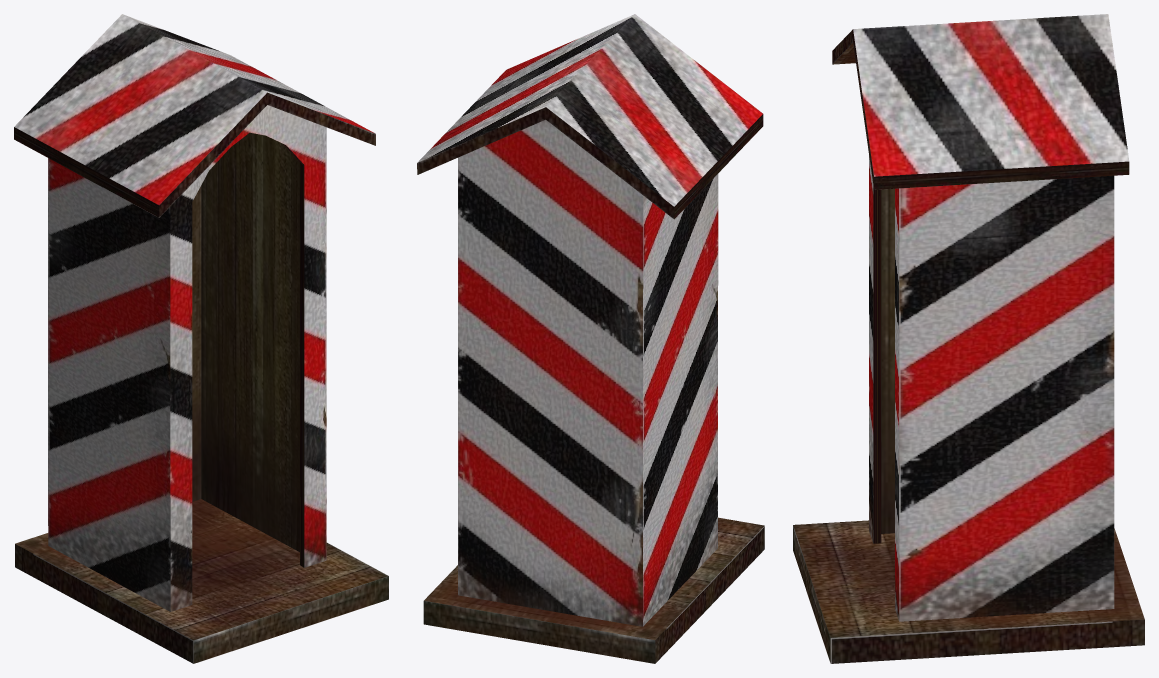
Rendered from budka.FBX.
The picture shows the model from 3 angles, left to right: view 1: azimuth 30°, elevation 25°; view 2: azimuth 150°, elevation 25°; view 3: azimuth 270°, elevation 25°; orthographic projection. The views are drawn at different scales.
Parts seen in each view (by area): view 1: obj404; view 2: obj404; view 3: obj404.
Boxes of the visible parts, x1,y1,x2,y2 form: obj404: [14, 14, 388, 663]; obj404: [417, 14, 764, 663]; obj404: [793, 14, 1144, 663].
Size of the model in its own units: 4.8 by 9.14 by 5.06.
